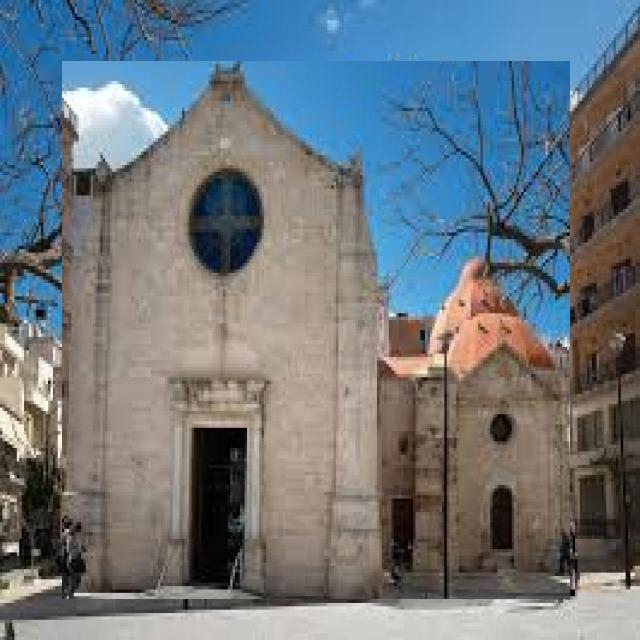Agia Aikaterini: (63, 62, 571, 600)
